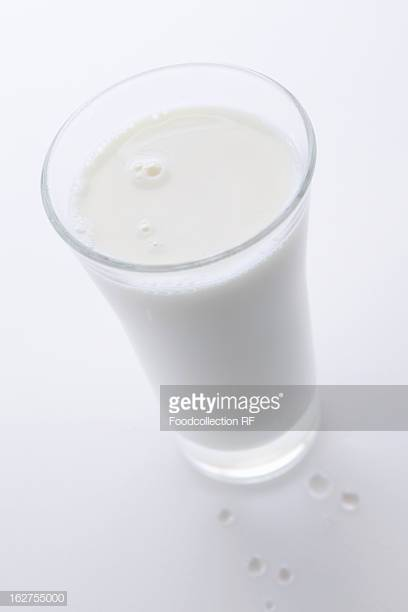glass of milk: (92, 106, 308, 382)
